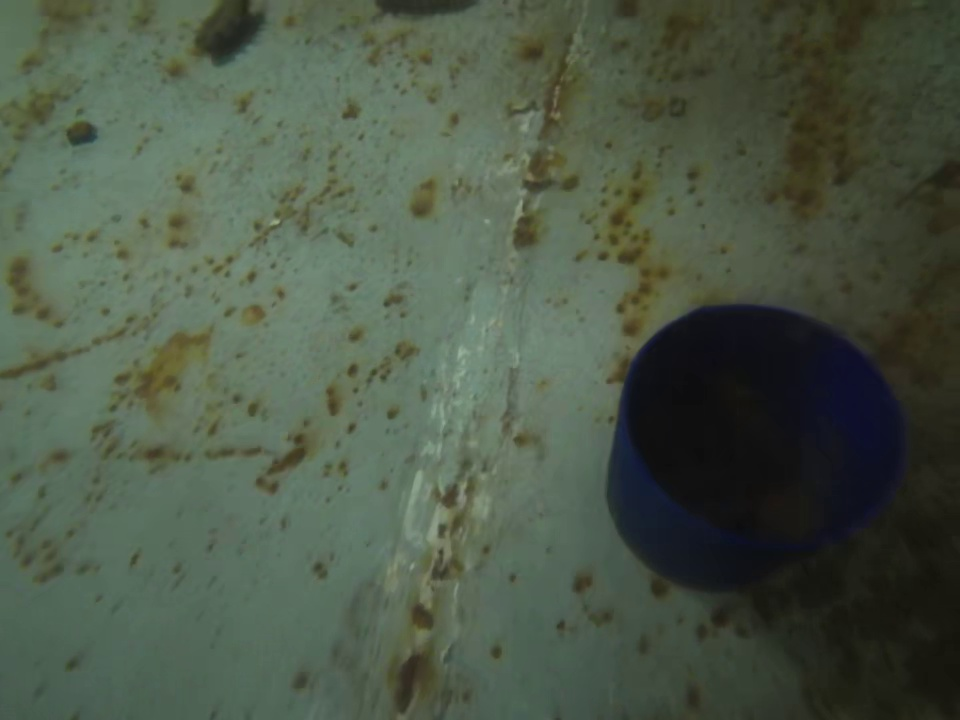seacucumber: (188, 1, 257, 65), (371, 1, 478, 12)
